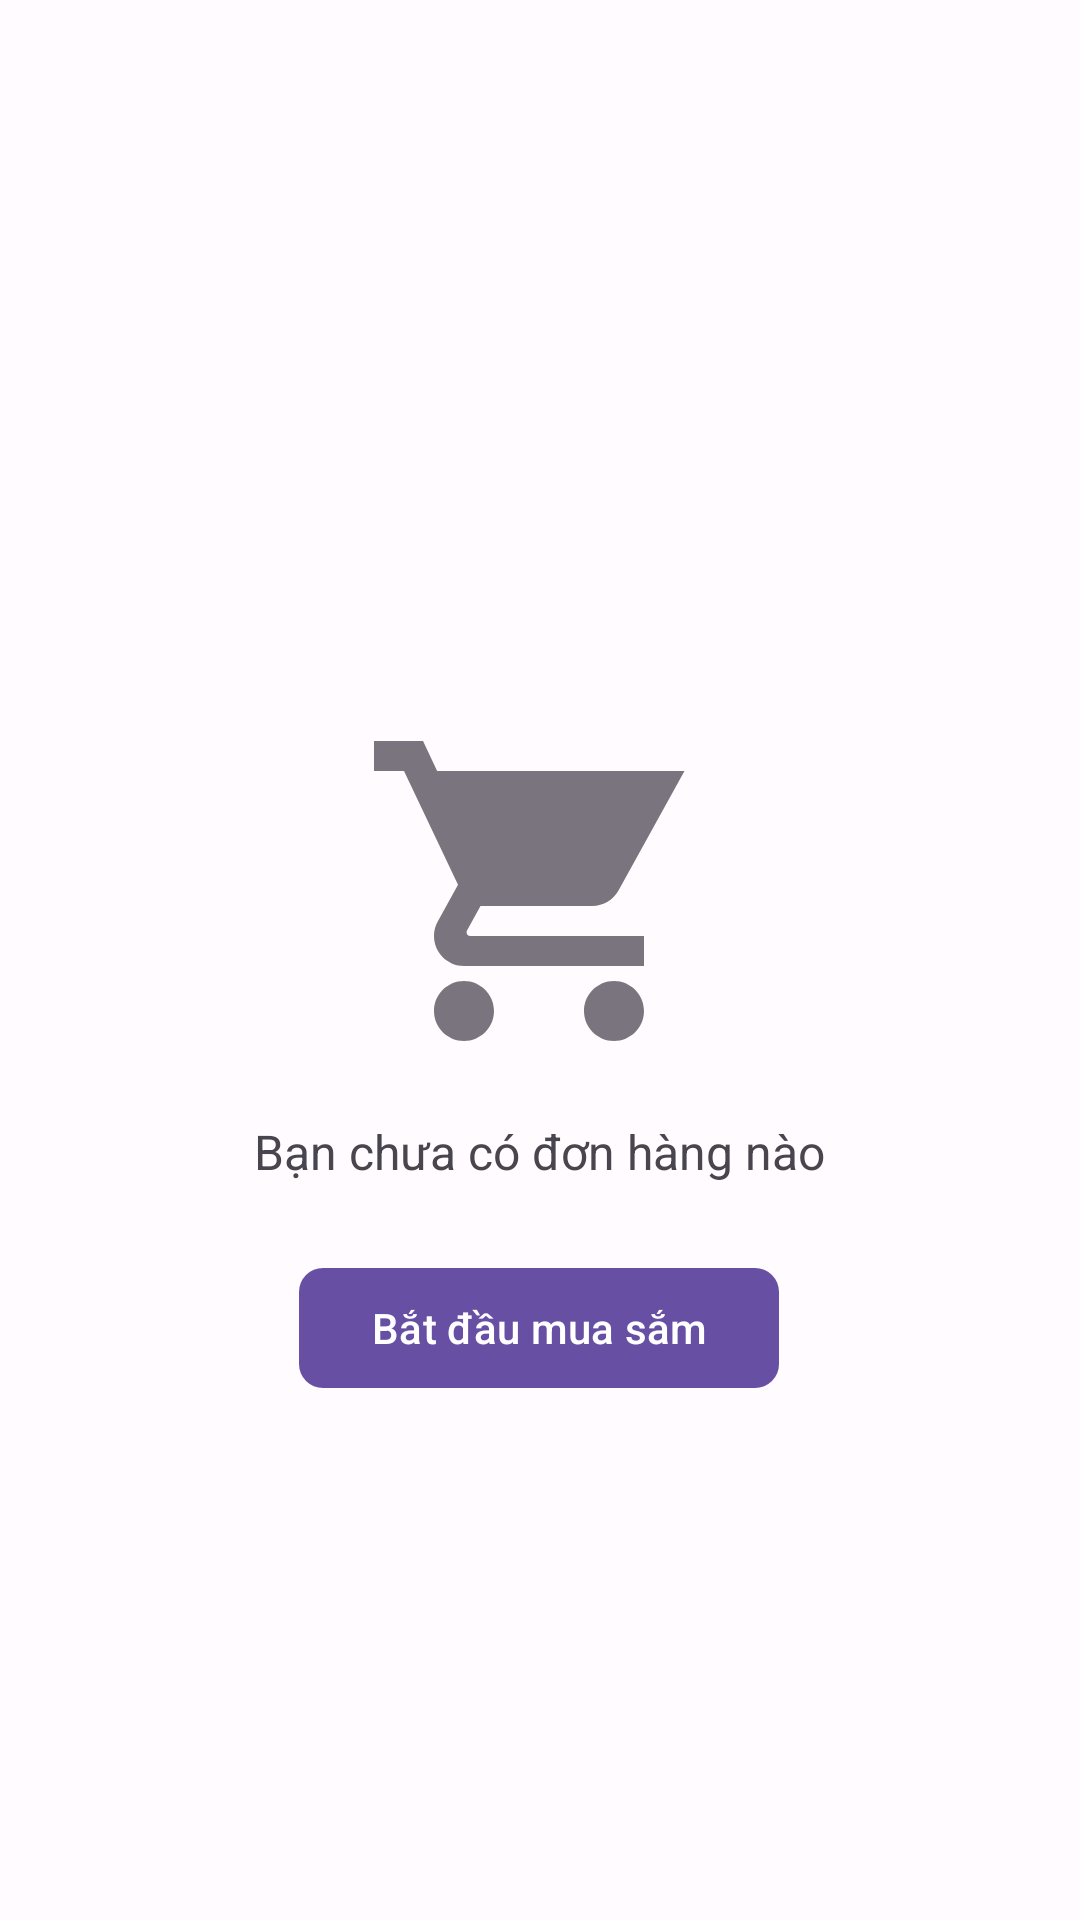

Locate icon controls on the screen. Image size 1080*1920, boxes as (x1, y1, x2, y2).
shopping cart: (374, 741, 685, 1041)
